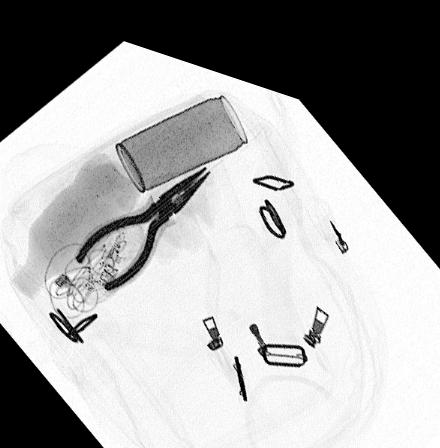Pliers: (71, 149, 211, 287)
